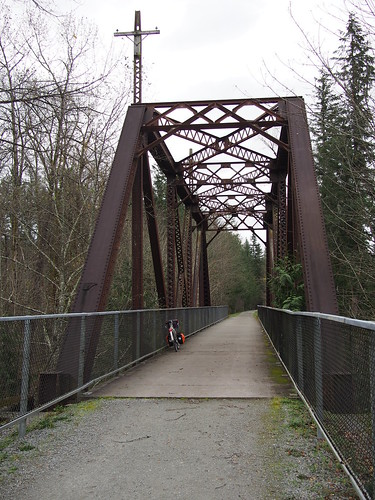bridge: (40, 283, 365, 500)
tree: (1, 32, 113, 296), (308, 16, 375, 337)
